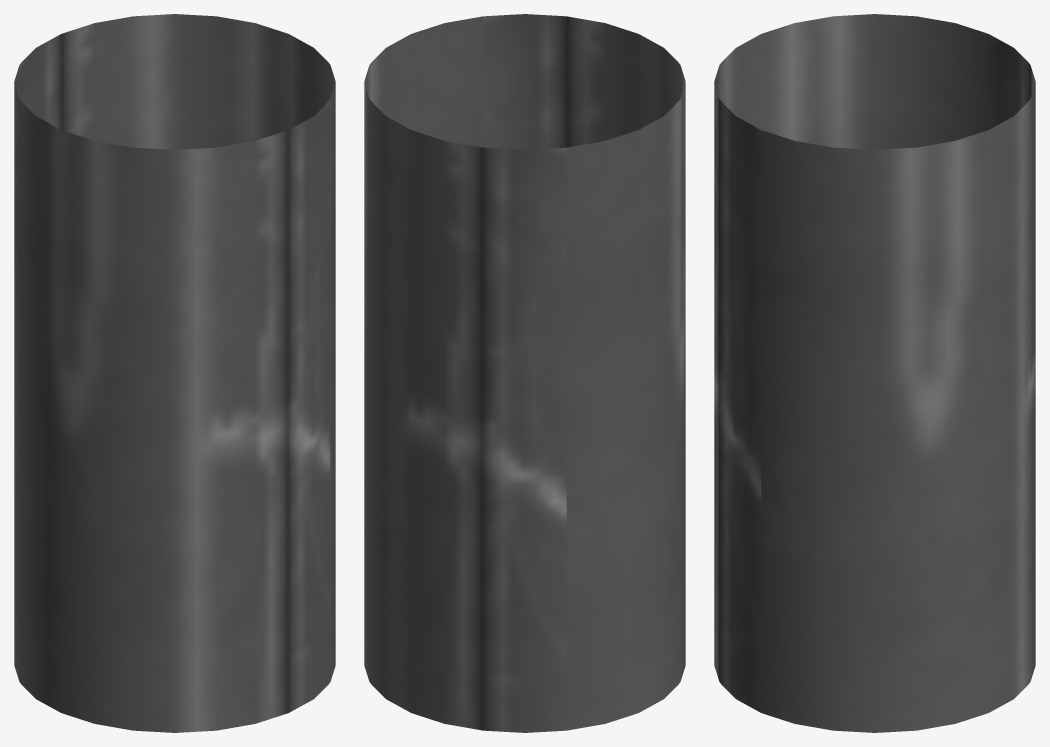
File: black_knight_fuel_tank_s0_2.obj
3 renders of one model, left to right at view 1: azimuth 30°, elevation 25°; view 2: azimuth 150°, elevation 25°; view 3: azimuth 270°, elevation 25°, orthographic.
Visible parts, largest first — view 1: mesh1; view 2: mesh1; view 3: mesh1.
Boxes of the visible parts, box(x1,y1,x2,y2) form: mesh1: box(14, 14, 335, 732); mesh1: box(364, 14, 685, 732); mesh1: box(714, 14, 1035, 732).
Size of the model in its own units: 0.625 by 1.25 by 0.625.
